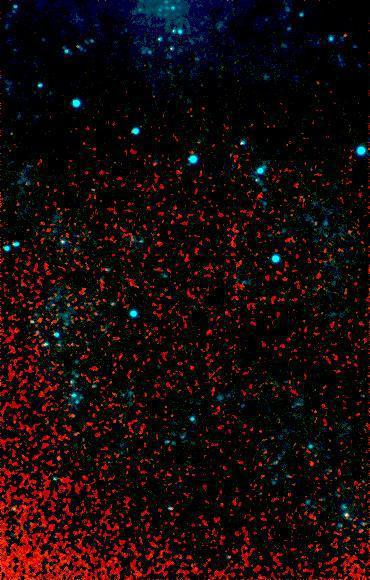star: (46, 441, 76, 471)
